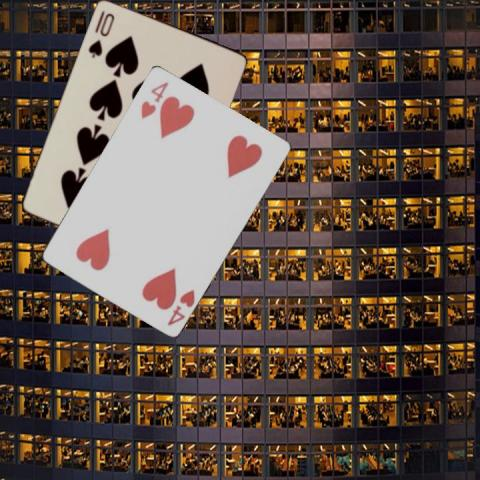10s: (85, 9, 116, 59)
4h: (137, 78, 170, 120), (164, 286, 197, 327)
